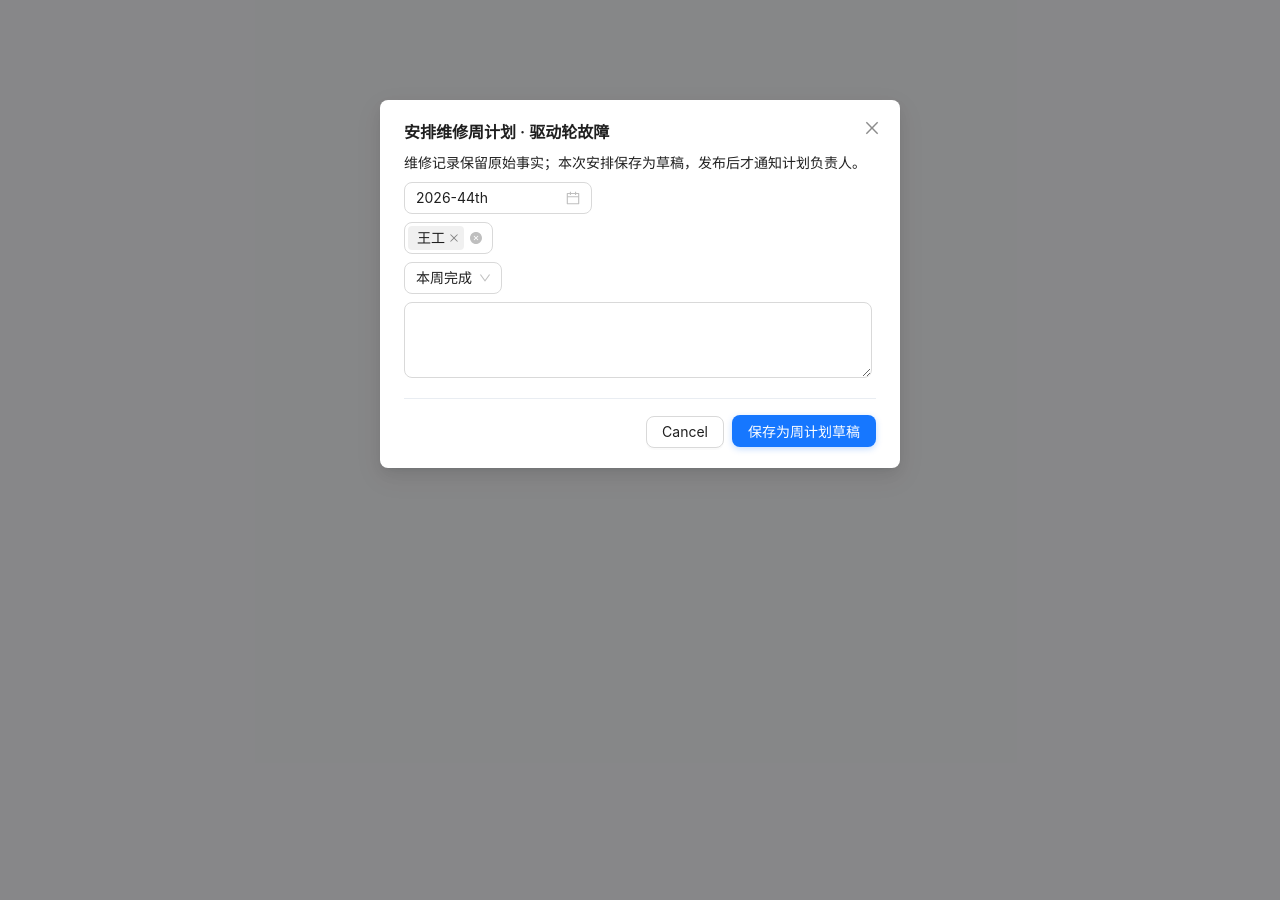
Test: keeps a duplicate result explicit without pretending to overwrite or publish the old plan
Click the button "保存为周计划草稿". click: click(804, 431)
box: [732,415,876,447]
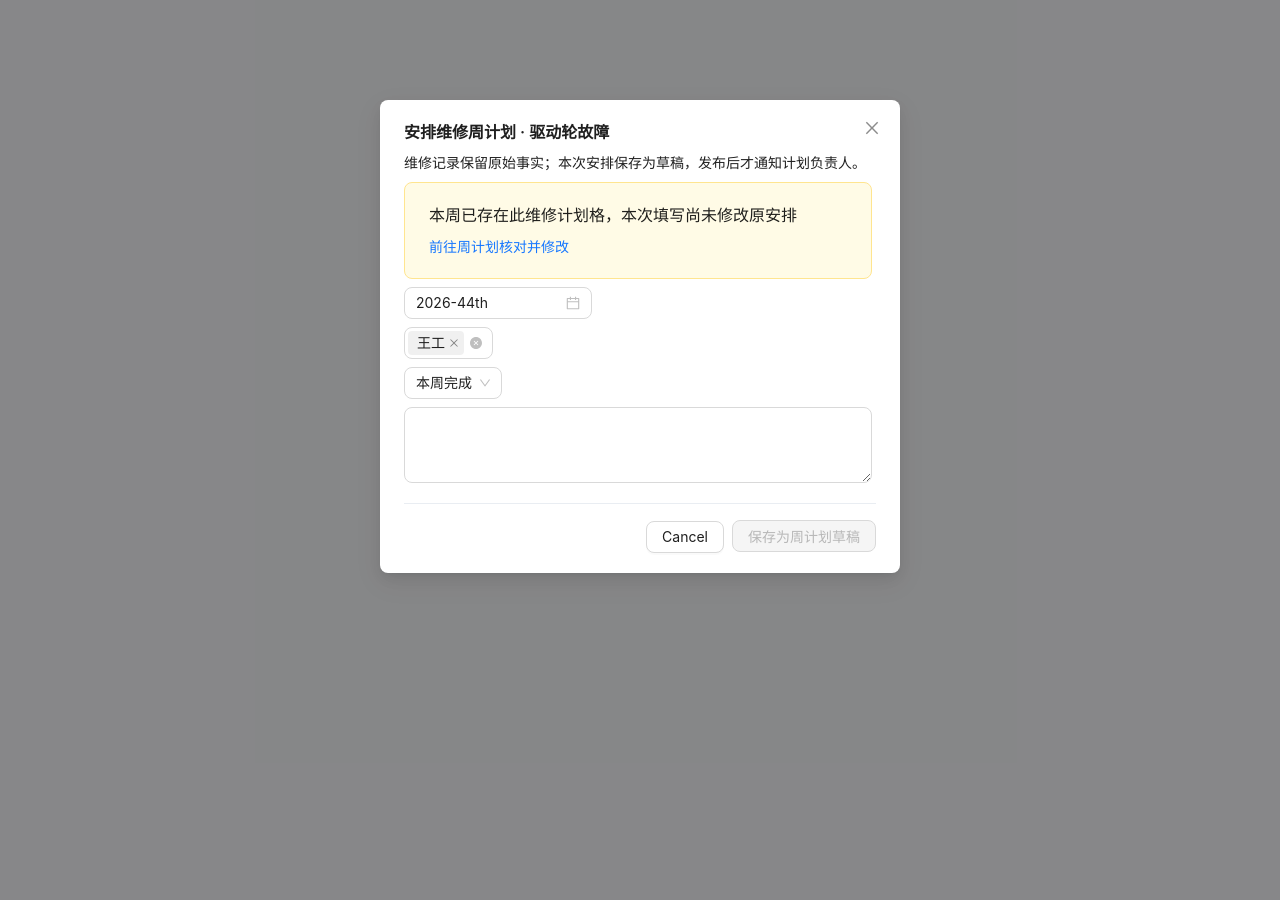
Check: the text "本周已存在此维修计划格，本次填写尚未修改原安排" is shown, box [429,203,847,228]
Check: the button "保存为周计划草稿" is disabled, box [732,520,876,552]
